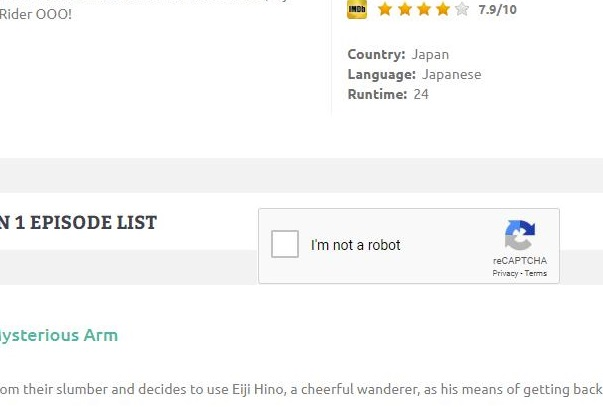captcha: (271, 230, 404, 258)
